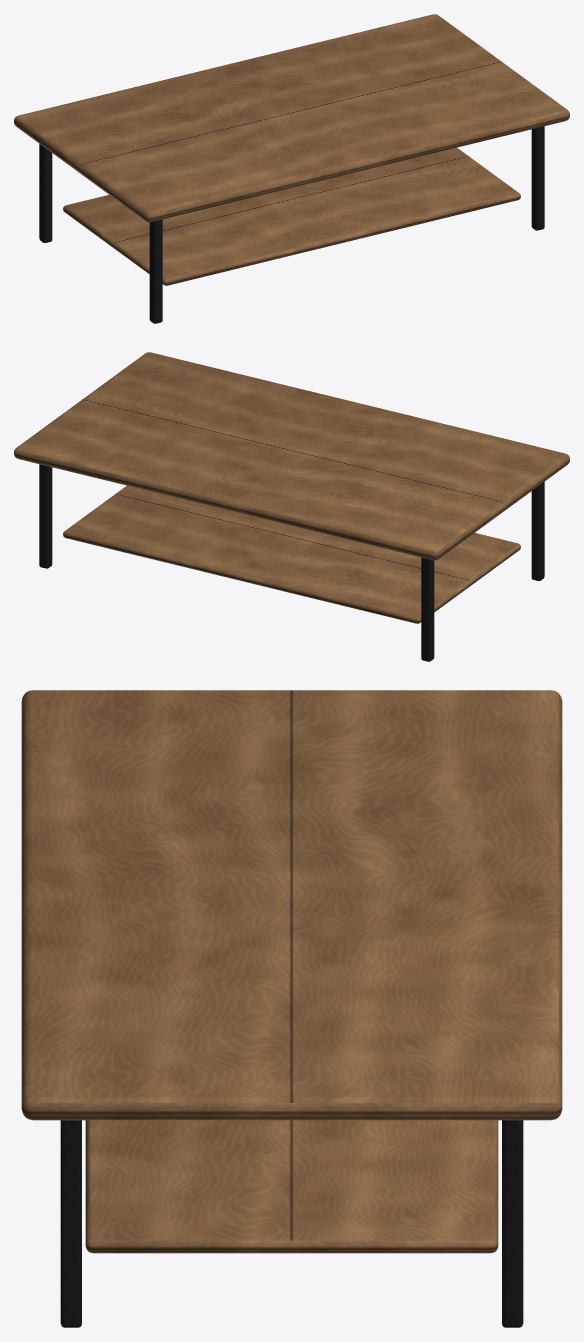
The model's file is living_coffee_table.glb.
The picture shows the model from 3 angles, top to bottom: view 1: azimuth 30°, elevation 25°; view 2: azimuth 150°, elevation 25°; view 3: azimuth 270°, elevation 25°; orthographic projection. The views are drawn at different scales.
Parts seen in each view (by area): view 1: living_coffee_table; view 2: living_coffee_table; view 3: living_coffee_table.
Boxes of the visible parts, x1=… form: living_coffee_table: x1=14, y1=14, x2=569, y2=323; living_coffee_table: x1=14, y1=352, x2=569, y2=661; living_coffee_table: x1=21, y1=690, x2=562, y2=1327.
Bounding box in the file's own units: 1.38 × 0.3795 × 0.76.
2 materials, 2 textured.
